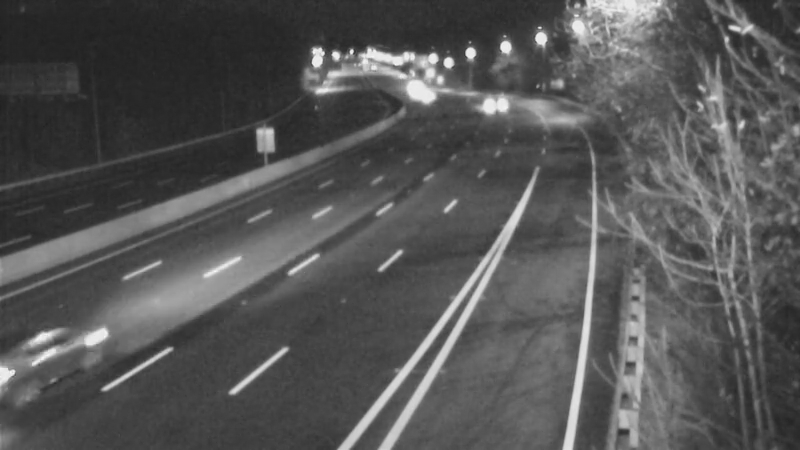vehicle: (1, 294, 107, 404), (384, 62, 434, 112), (393, 69, 443, 119), (401, 71, 451, 121), (458, 79, 508, 129)
